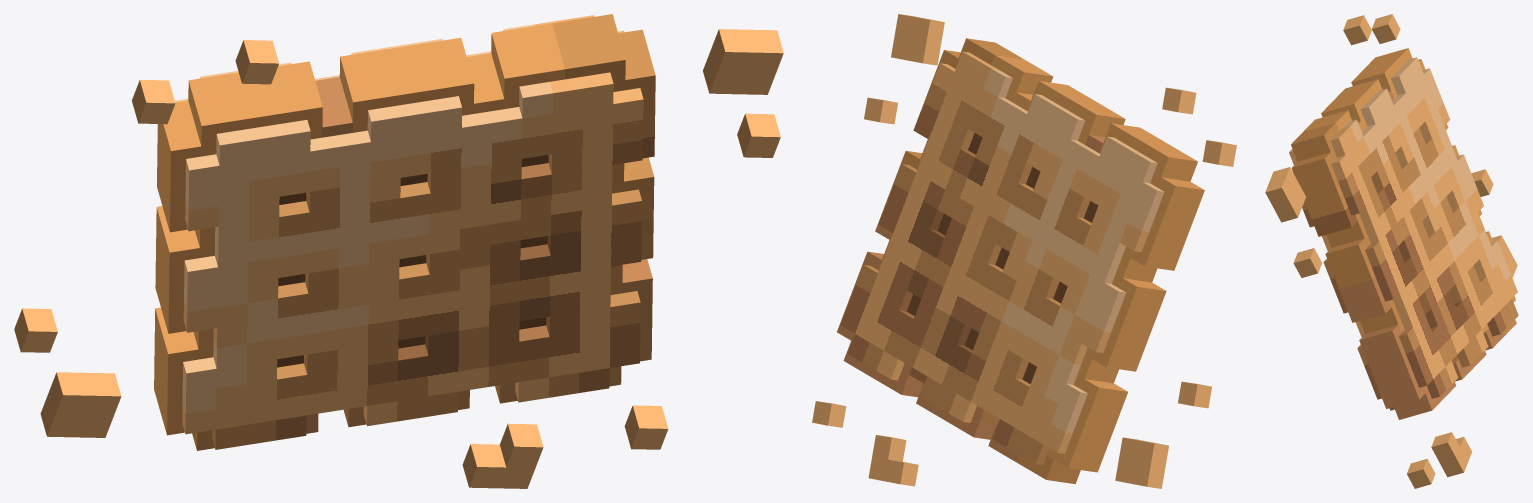
3 views of the same model, side by side, from view 1: azimuth 30°, elevation 25°; view 2: azimuth 150°, elevation 25°; view 3: azimuth 270°, elevation 25° (orthographic). The views are drawn at different scales.
Visible parts, largest first — view 1: cracker01_low-Local, cracker02_low-Local, crumbs-Local; view 2: cracker01_low-Local, cracker02_low-Local, crumbs-Local; view 3: cracker01_low-Local, cracker02_low-Local, crumbs-Local.
Boxes of the visible parts, <box> form: cracker01_low-Local: <box>175,15,643,449</box>; cracker02_low-Local: <box>154,14,655,450</box>; crumbs-Local: <box>14,29,783,488</box>; cracker01_low-Local: <box>840,51,1164,465</box>; cracker02_low-Local: <box>837,38,1204,484</box>; crumbs-Local: <box>812,14,1236,488</box>; cracker01_low-Local: <box>1289,57,1518,410</box>; cracker02_low-Local: <box>1291,48,1516,419</box>; crumbs-Local: <box>1265,14,1517,488</box>.
Bounding box in the file's own units: 22.99 × 20.83 × 13.4.
Materials: 3 (3 with a texture image).
